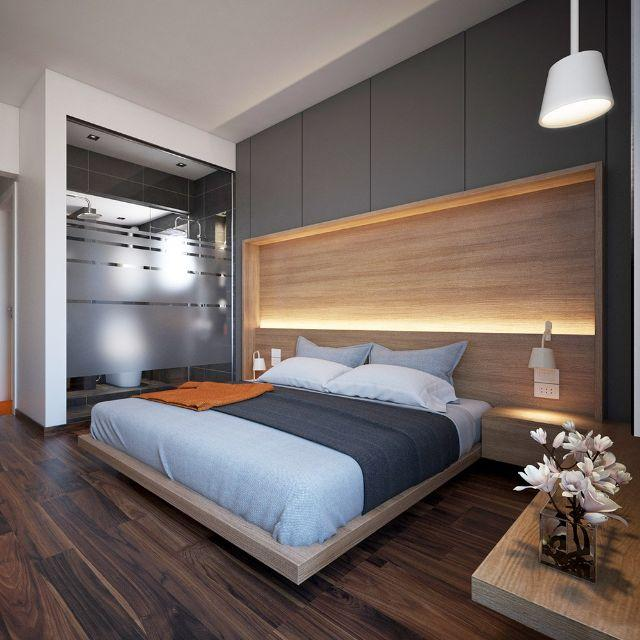bed: (79, 401, 490, 557)
pillow: (335, 342, 477, 402), (263, 344, 360, 394)
